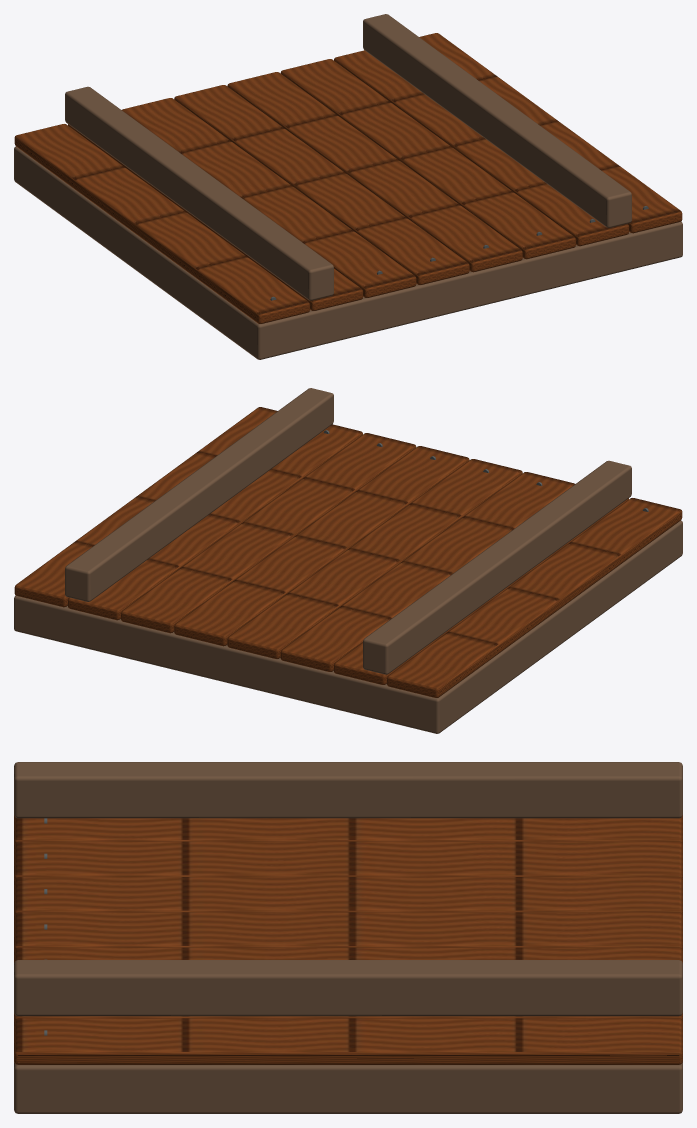
File: adventurers-tavern-and-guild-hall-ceiling-tile-e1a393fa__24682.glb
3 views of the same model, one above another, from view 1: azimuth 30°, elevation 25°; view 2: azimuth 150°, elevation 25°; view 3: azimuth 270°, elevation 25° (orthographic). The views are drawn at different scales.
Visible parts, largest first — view 1: ceiling-tile; view 2: ceiling-tile; view 3: ceiling-tile.
Boxes of the visible parts, x1,y1,x2,y2 form: ceiling-tile: (14, 14, 682, 359); ceiling-tile: (14, 388, 682, 733); ceiling-tile: (14, 762, 682, 1113).
Size of the model in its own units: 2 by 0.3499 by 2.
Materials: 3 (1 with a texture image).
